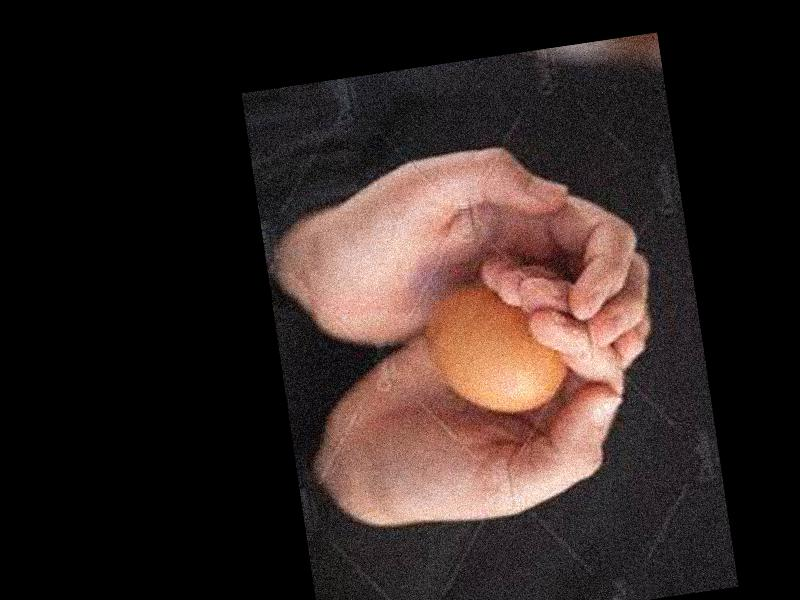Eggs: (418, 268, 568, 424)
